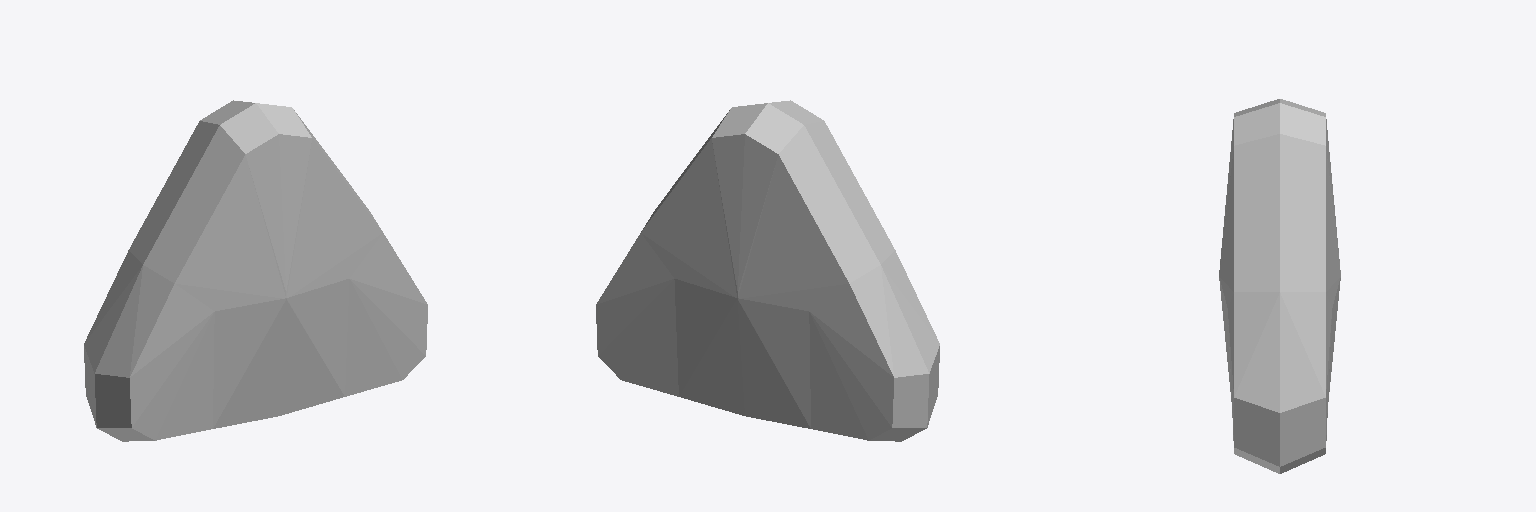
File: Onigiri.OBJ
3 views of the same model, side by side, from view 1: azimuth 30°, elevation 25°; view 2: azimuth 150°, elevation 25°; view 3: azimuth 270°, elevation 25° (orthographic).
Bounding box in the file's own units: 0.0904 × 0.0818 × 0.0295.